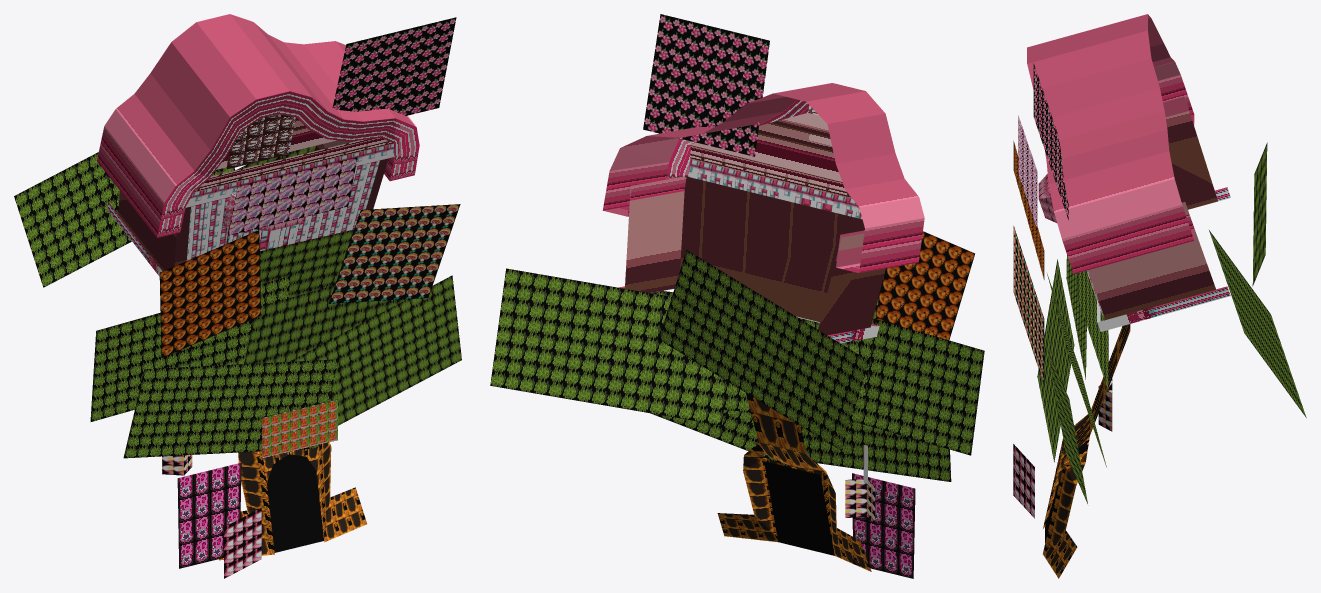
File: tp_flo00.gltf
The picture shows the model from 3 angles, left to right: view 1: azimuth 30°, elevation 25°; view 2: azimuth 150°, elevation 25°; view 3: azimuth 270°, elevation 25°; orthographic projection.
Visible parts, largest first — view 1: tp_flo00; view 2: tp_flo00; view 3: tp_flo00.
Part boxes in pixels (<box>): tp_flo00: <box>14,14,461,578</box>; tp_flo00: <box>490,14,984,578</box>; tp_flo00: <box>1013,14,1306,578</box>.
Bounding box in the file's own units: 5.38 × 6.77 × 3.58.
Materials: 17 (17 with a texture image).
